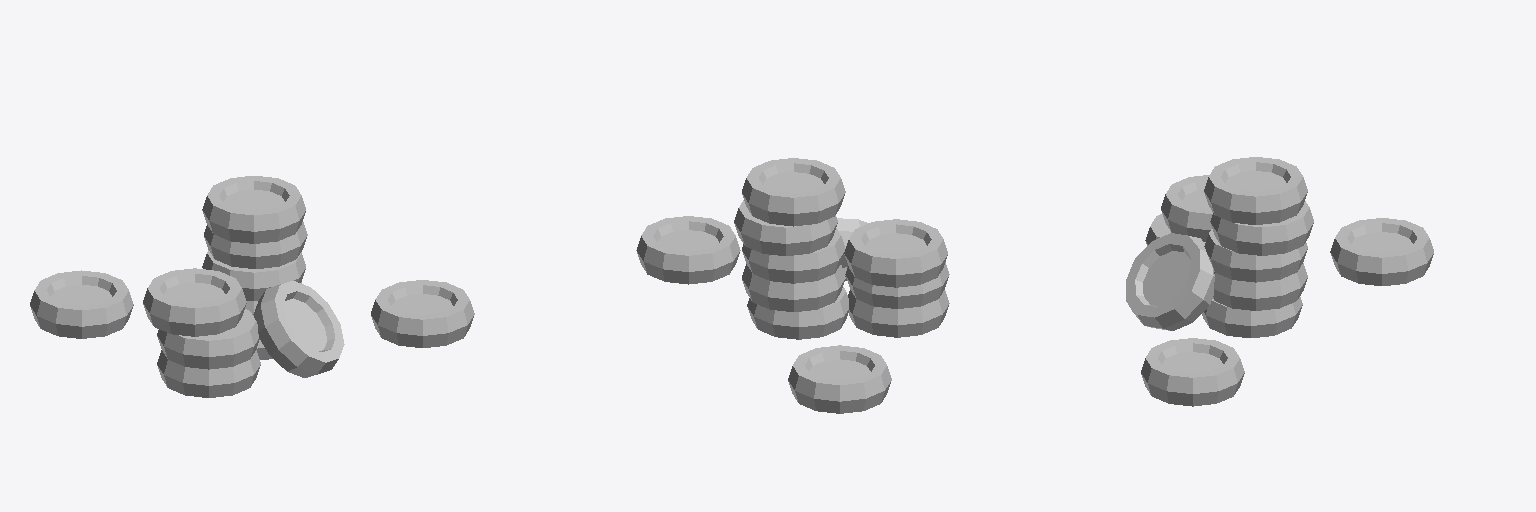
Rendered from coinsMedium.obj.
3 views of the same model, side by side, from view 1: azimuth 30°, elevation 25°; view 2: azimuth 150°, elevation 25°; view 3: azimuth 270°, elevation 25° (orthographic).
Parts seen in each view (by area): view 1: coinsMedium_Cylinder.055; view 2: coinsMedium_Cylinder.055; view 3: coinsMedium_Cylinder.055.
Part boxes in pixels (left/top/right/bottom): coinsMedium_Cylinder.055: left=30, top=176, right=474, bottom=397; coinsMedium_Cylinder.055: left=636, top=158, right=949, bottom=413; coinsMedium_Cylinder.055: left=1126, top=157, right=1433, bottom=406.
Bounding box in the file's own units: 1.23 × 0.5074 × 0.9779.